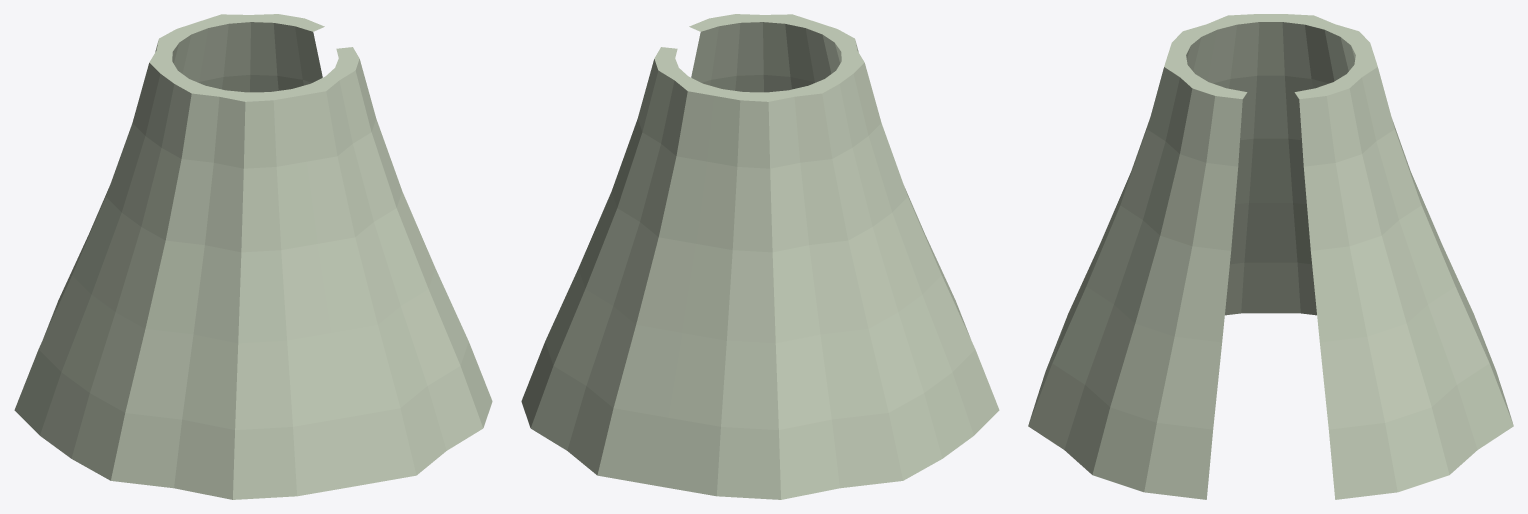
The model's file is leaf_sheath.glb.
3 renders of one model, left to right at view 1: azimuth 30°, elevation 25°; view 2: azimuth 150°, elevation 25°; view 3: azimuth 270°, elevation 25°, orthographic.
Parts seen in each view (by area): view 1: world; view 2: world; view 3: world.
Boxes of the visible parts, x1,y1,x2,y2 form: world: (14, 14, 492, 499); world: (521, 14, 999, 499); world: (1028, 14, 1513, 499).
Size of the model in its own units: 1.91 by 1.6 by 2.03.
